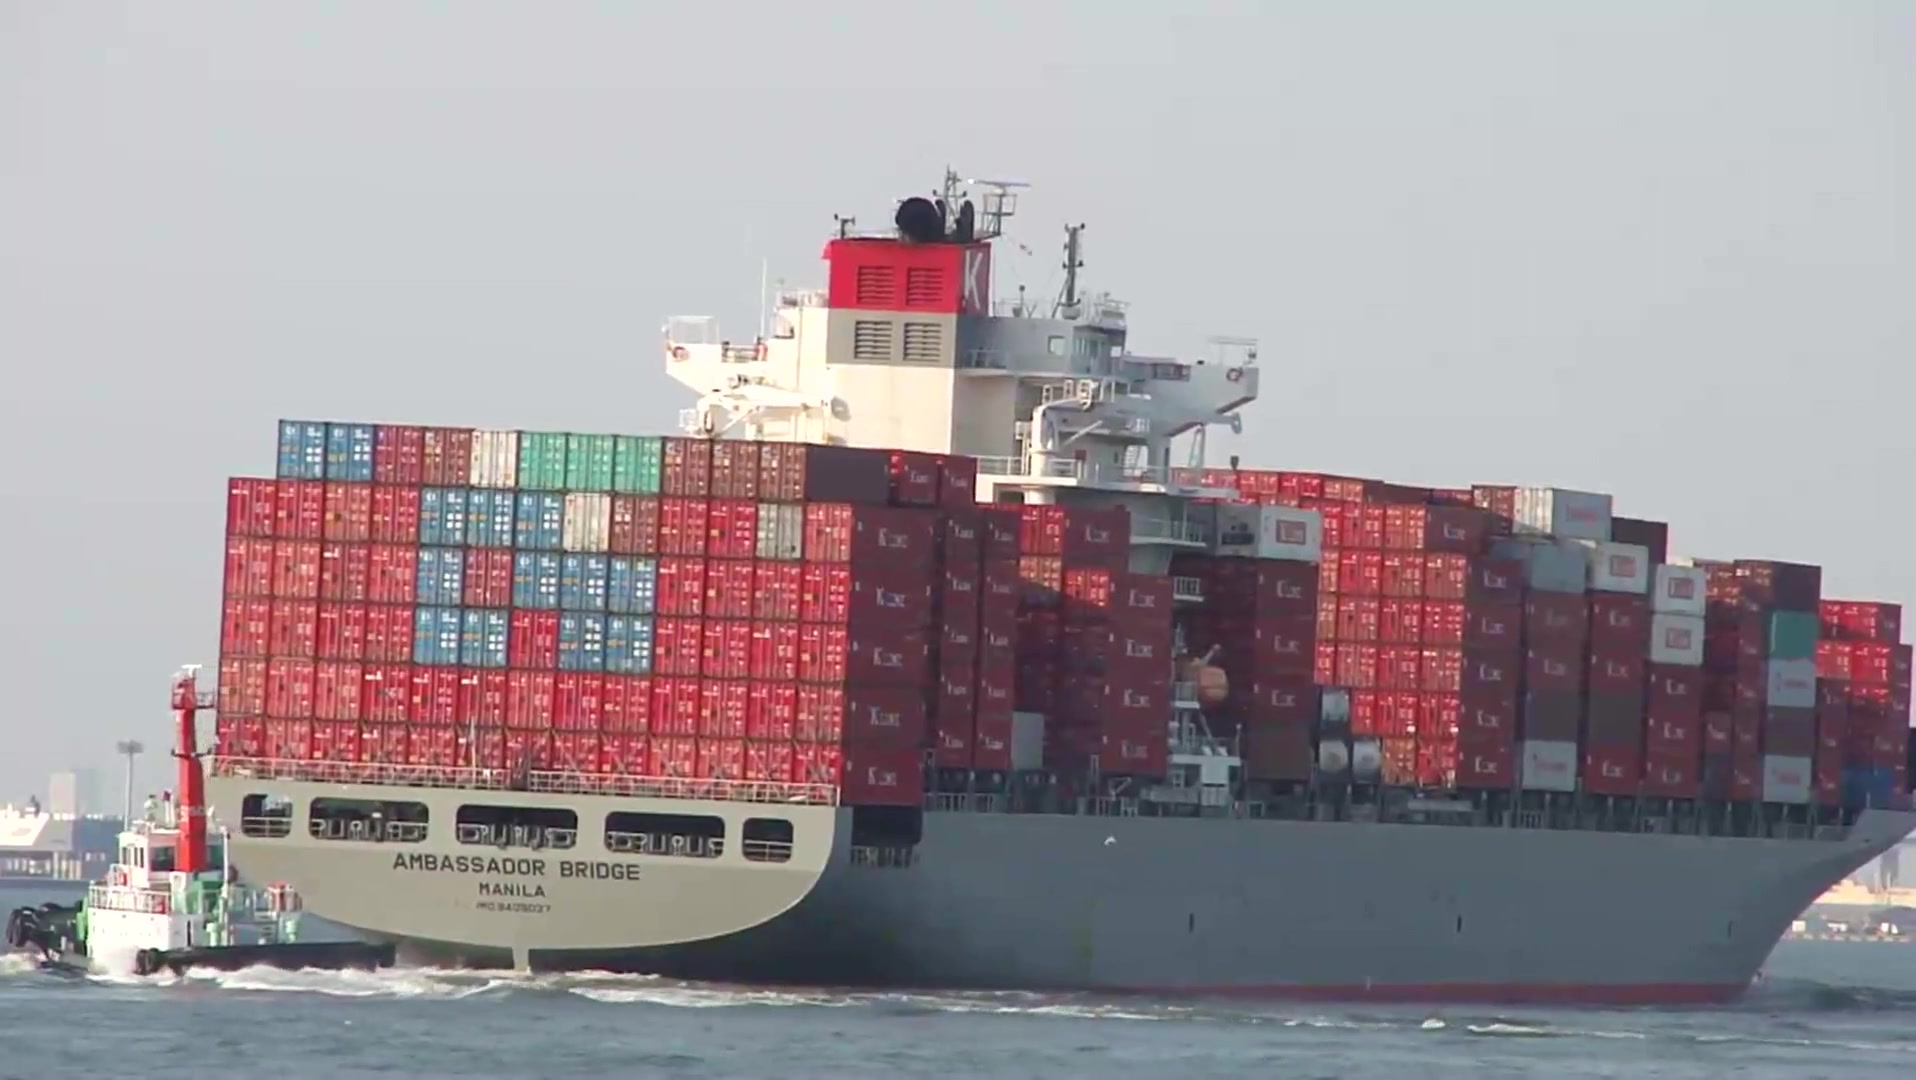boat: (212, 175, 1916, 1012), (8, 671, 396, 985)
